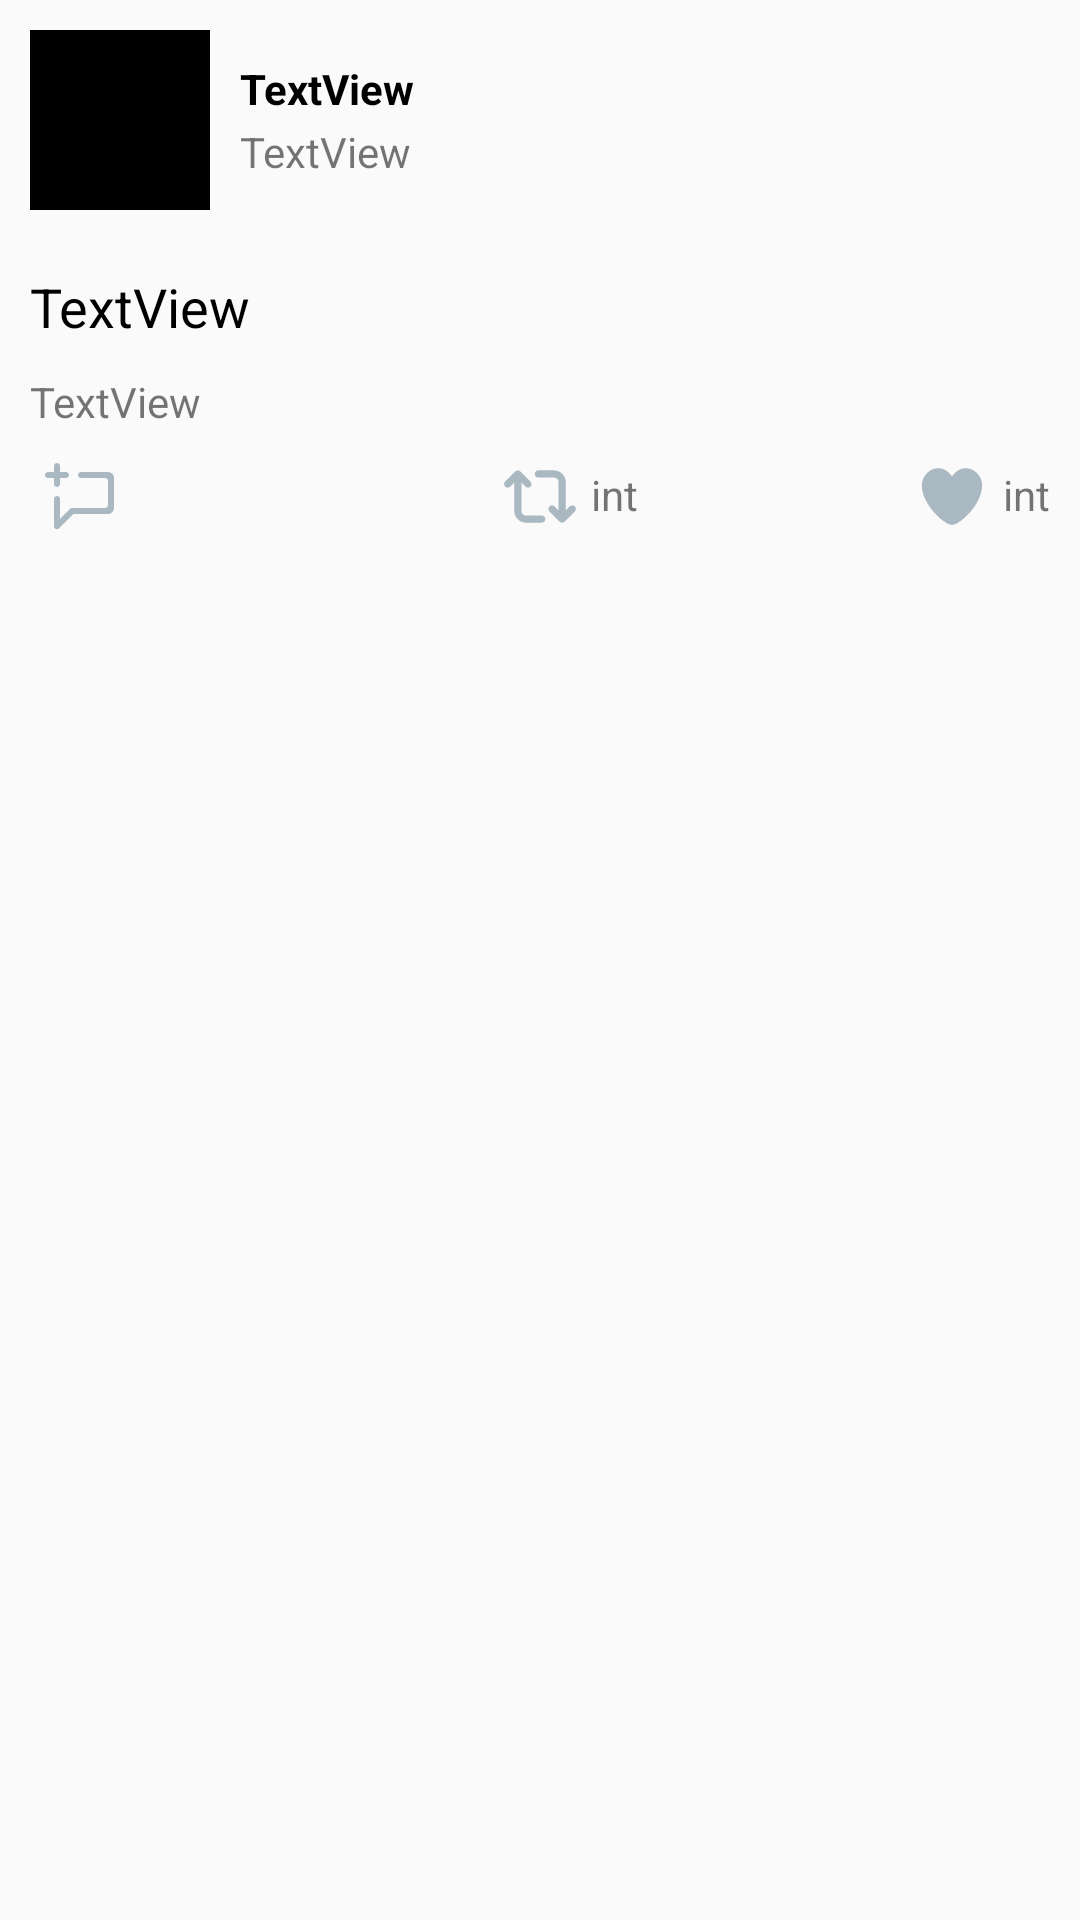

Screen size 1080w x 1920h. Icon name, then its center in pixels as (x,y):
compose dm fab: (79,496)
heart: (952,496)
retweet: (540,496)
